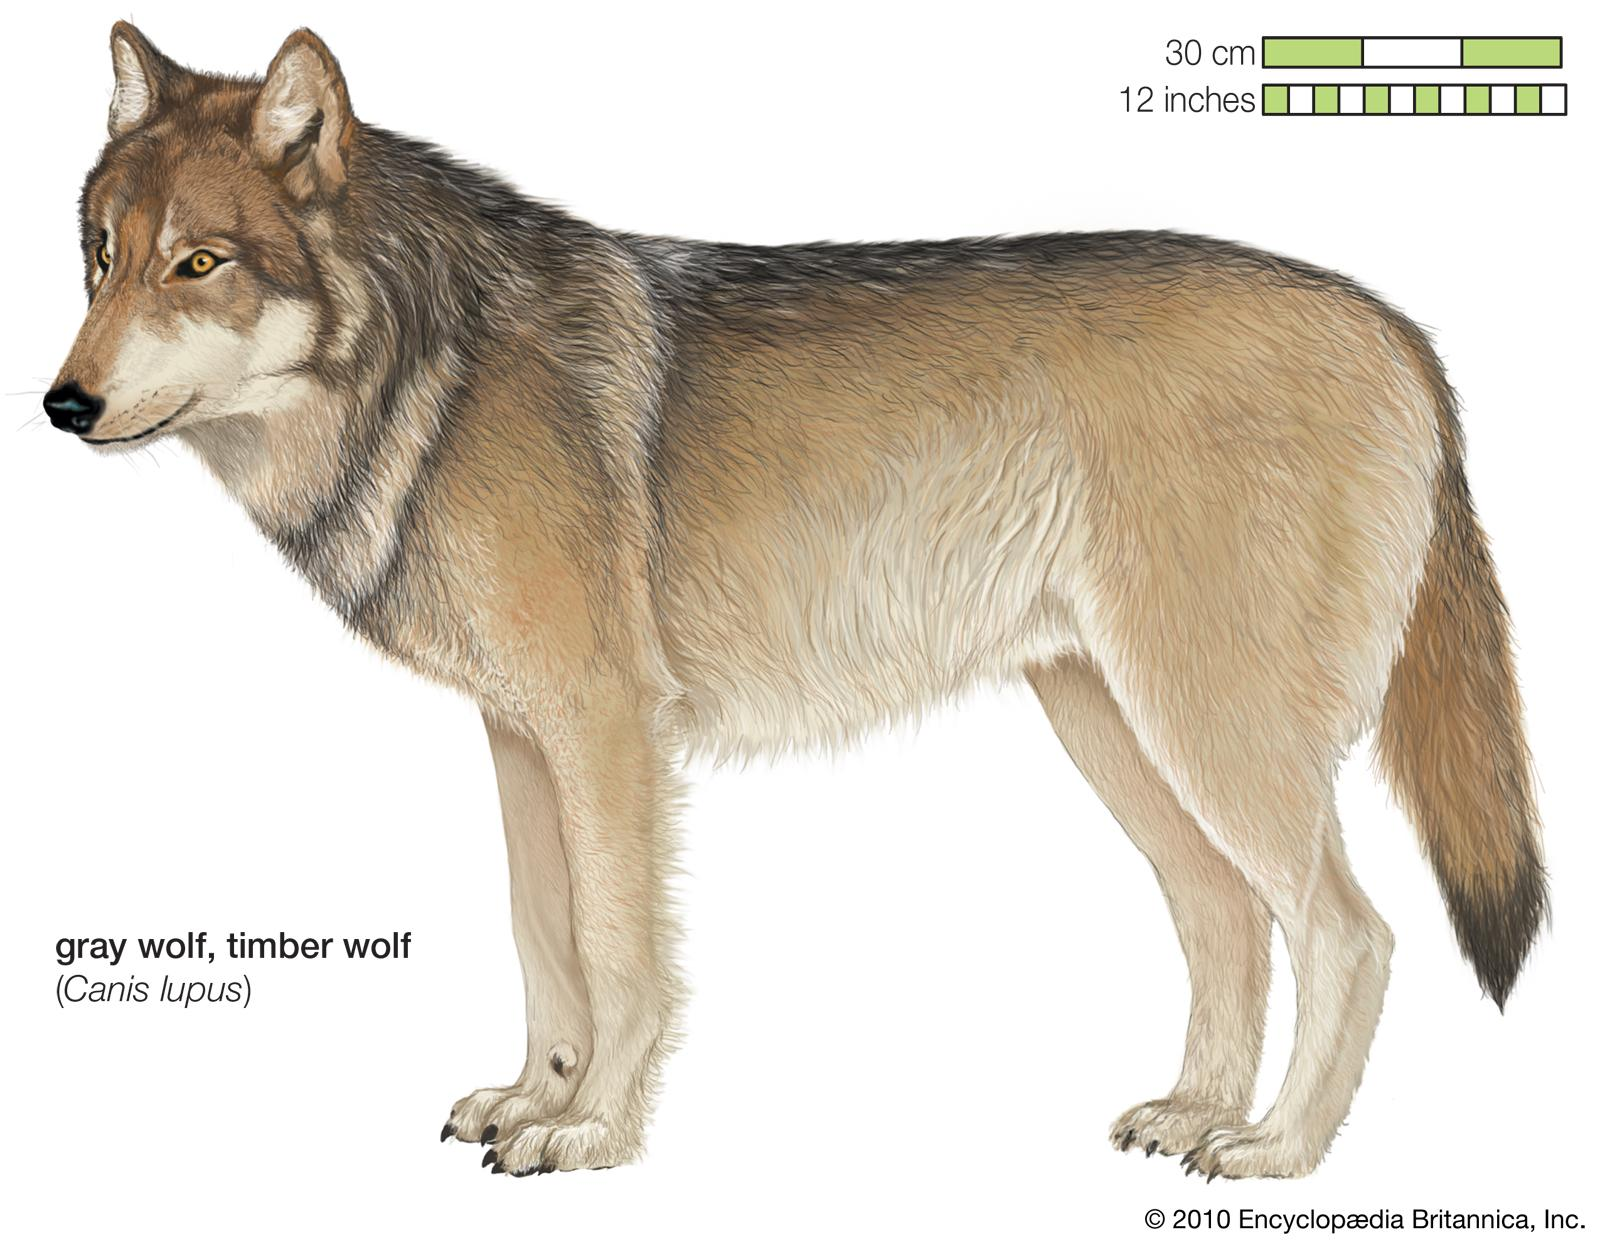Wolf: (42, 12, 1556, 1191)
